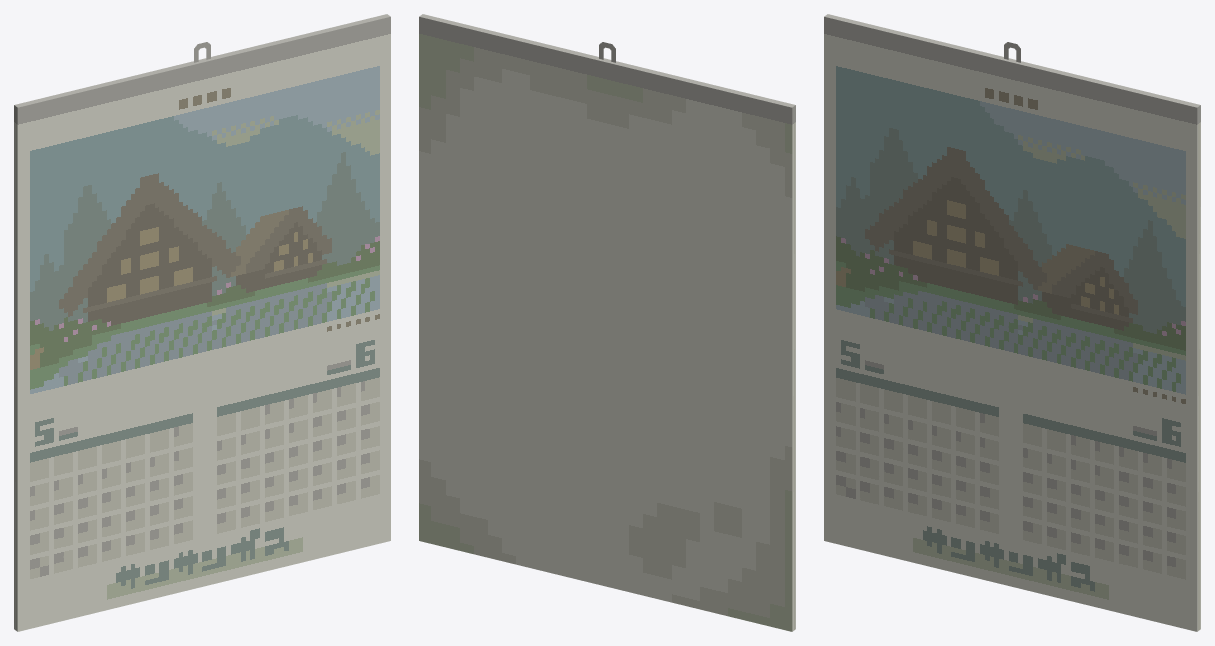
File: 04ce_Calendar.glb
The picture shows the model from 3 angles, left to right: view 1: azimuth 30°, elevation 25°; view 2: azimuth 150°, elevation 25°; view 3: azimuth 330°, elevation 25°; orthographic projection.
Visible parts, largest first — view 1: part_0; view 2: part_0; view 3: part_0.
Boxes of the visible parts, x1,y1,x2,y2 form: part_0: (14, 14, 390, 631); part_0: (419, 14, 795, 631); part_0: (824, 14, 1200, 631).
Size of the model in its own units: 0.35 by 0.486 by 0.006.
1 material, 1 textured.
